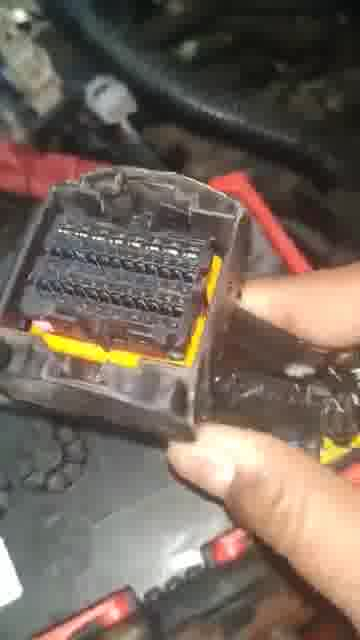connector: (3, 164, 250, 440)
